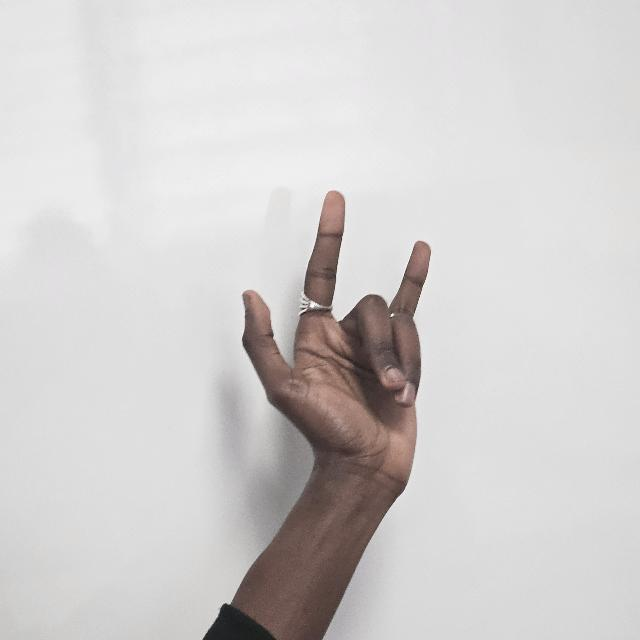Cima: (243, 184, 434, 496)
